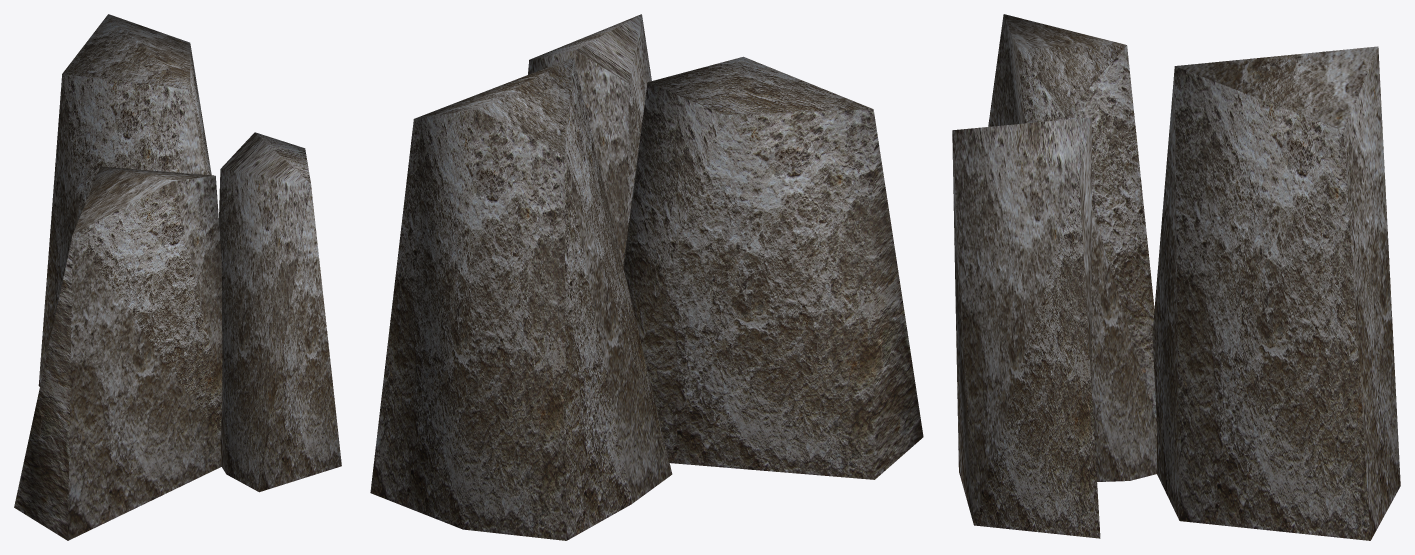
The model's file is ex_nord_rock_01.dae.
3 renders of one model, left to right at view 1: azimuth 30°, elevation 25°; view 2: azimuth 150°, elevation 25°; view 3: azimuth 270°, elevation 25°, orthographic. The views are drawn at different scales.
Visible parts, largest first — view 1: nifid_1-matrix; view 2: nifid_1-matrix; view 3: nifid_1-matrix.
Boxes of the visible parts, left/top/right/bottom form: nifid_1-matrix: left=14, top=14, right=341, bottom=540; nifid_1-matrix: left=370, top=14, right=923, bottom=540; nifid_1-matrix: left=952, top=14, right=1400, bottom=540.
Bounding box in the file's own units: 52.99 × 53.34 × 57.41.
1 material, 1 textured.
